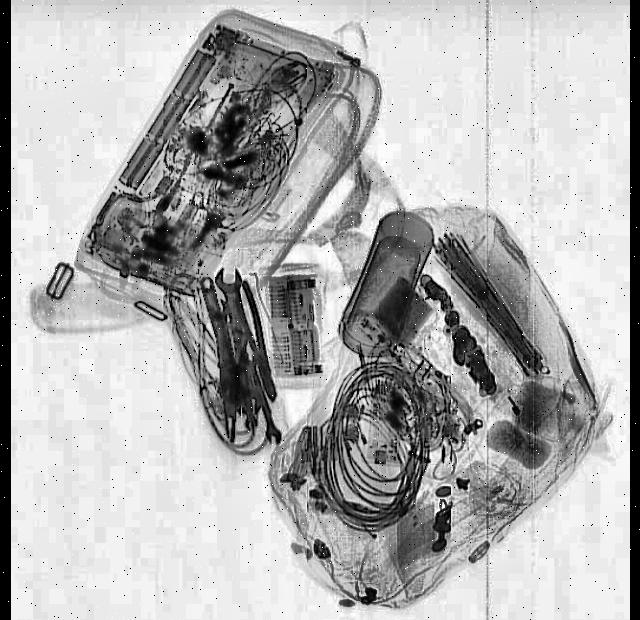Pliers: (232, 275, 284, 401)
Wrench: (213, 264, 261, 410), (250, 378, 284, 447)
